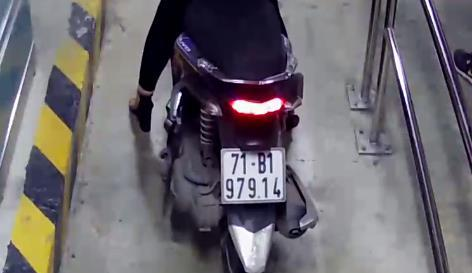lisence: (221, 149, 286, 202)
